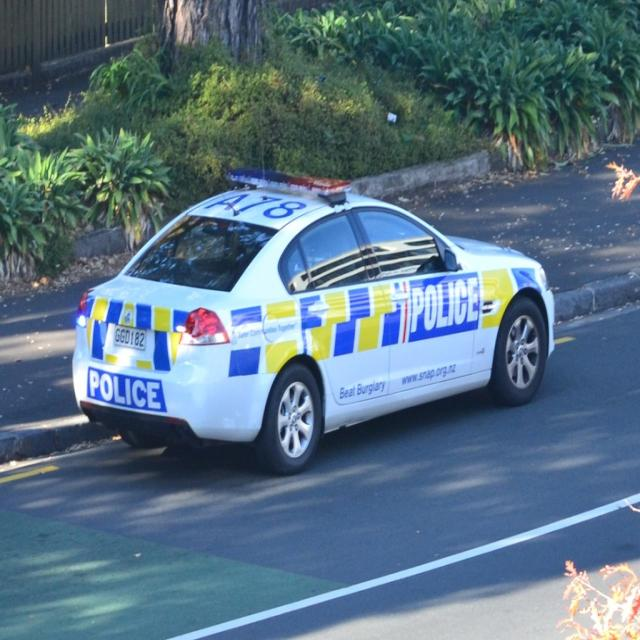car: (68, 167, 553, 465)
